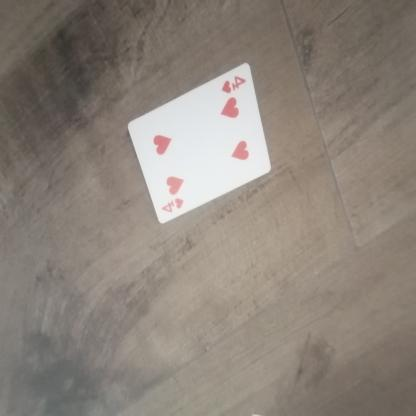4H: (154, 192, 186, 223), (221, 69, 247, 100)
